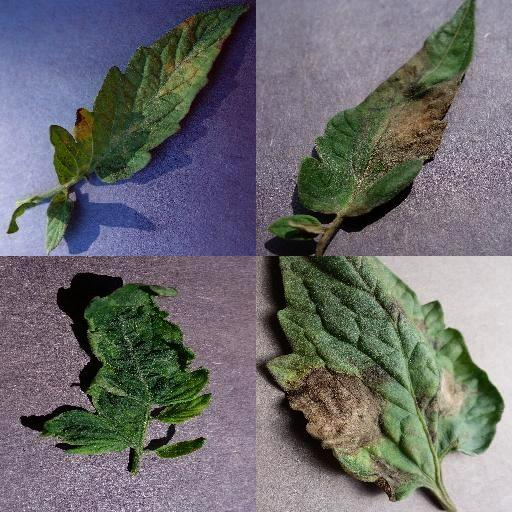Late Blight: (262, 256, 506, 501), (294, 0, 475, 216)
Leaf Mold: (50, 1, 252, 183)
Mosaic Virus: (35, 281, 213, 457)
